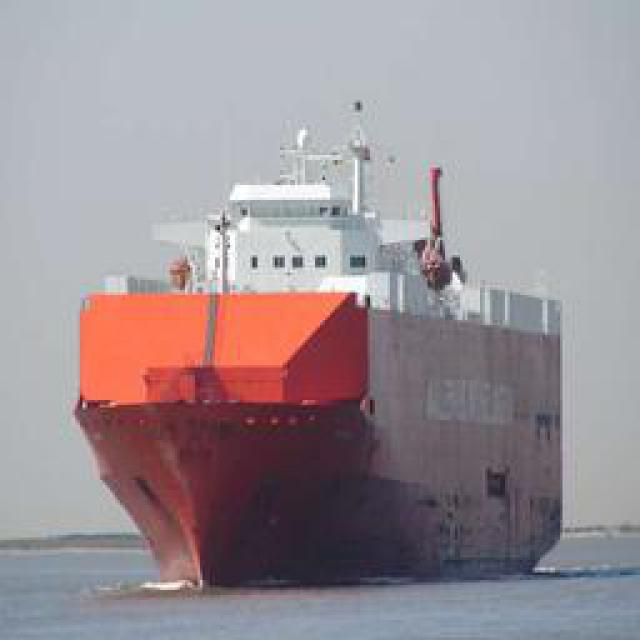Ship: (68, 81, 581, 602)
